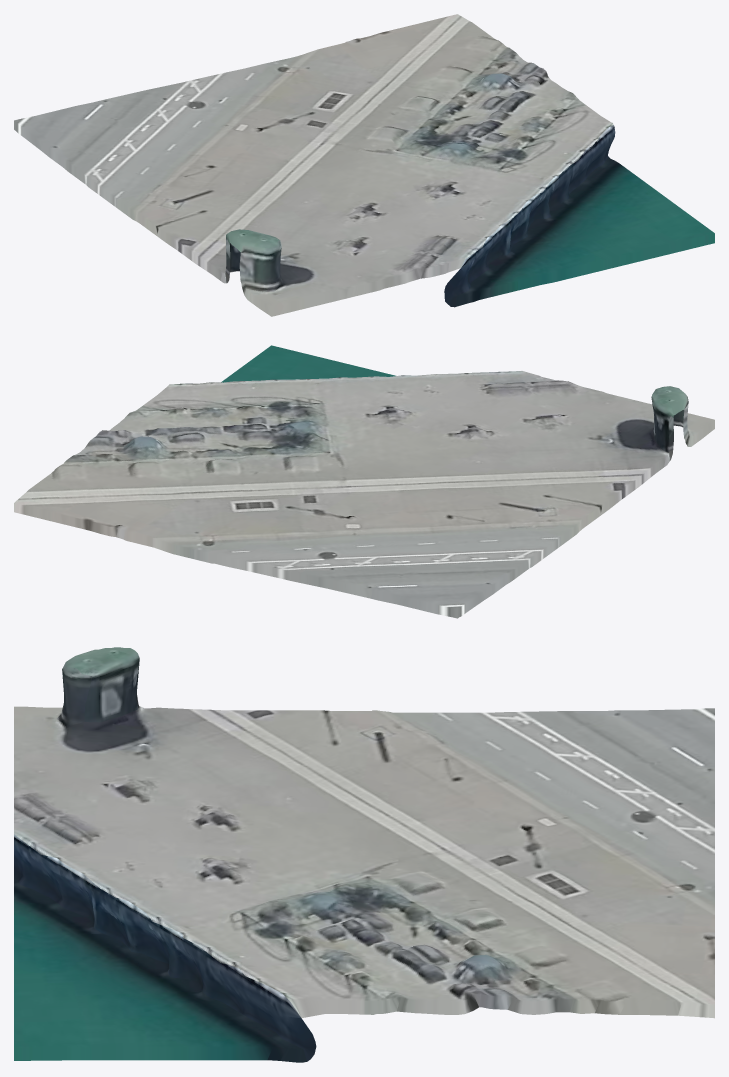
File: z20-167780-405207-h0-yup-uvflip-v3-world.glb
3 renders of one model, top to bottom at view 1: azimuth 30°, elevation 25°; view 2: azimuth 150°, elevation 25°; view 3: azimuth 270°, elevation 25°, orthographic. The views are drawn at different scales.
Size of the model in its own units: 30.16 by 5.8 by 30.32.
1 material, 1 textured.
